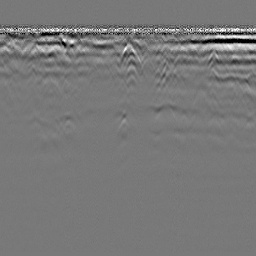cavity: (119, 42, 142, 66)
